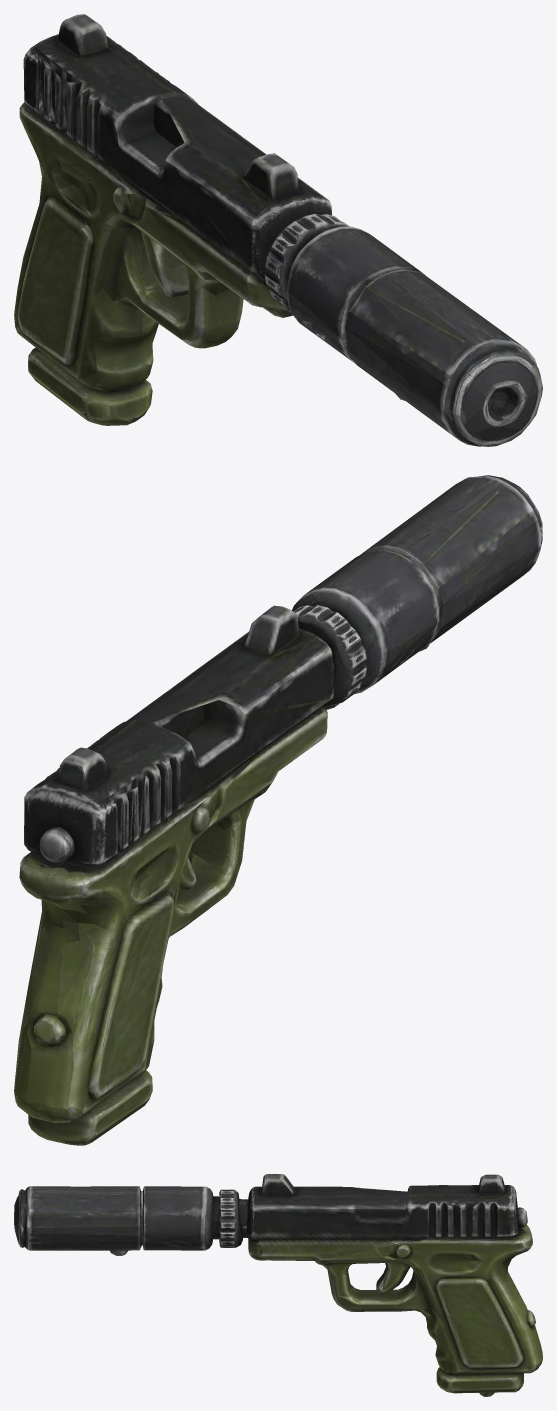
File: gun_hush.glb
The picture shows the model from 3 angles, top to bottom: view 1: azimuth 30°, elevation 25°; view 2: azimuth 150°, elevation 25°; view 3: azimuth 270°, elevation 25°; orthographic projection. The views are drawn at different scales.
Size of the model in its own units: 0.0412 by 0.1564 by 0.34.
1 material, 1 textured.
